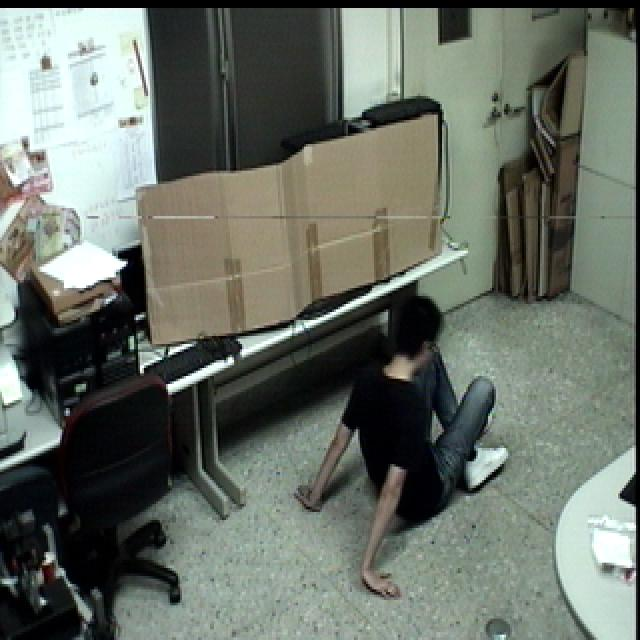sit: (290, 288, 513, 602)
